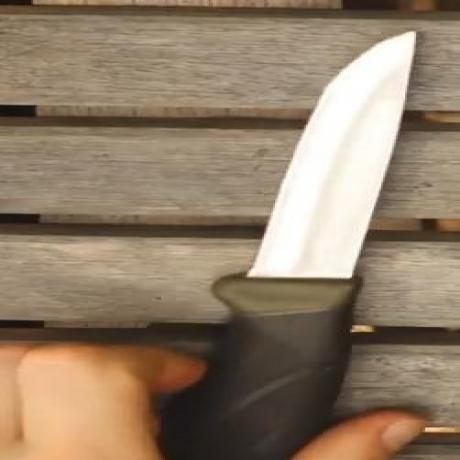weapon: (160, 30, 452, 432)
